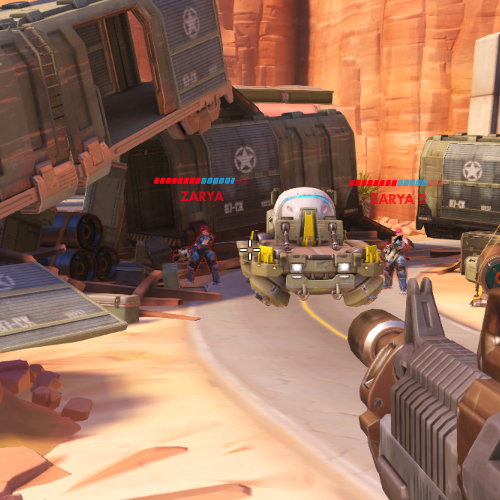hpbar: (153, 176, 249, 185), (348, 179, 446, 187)
